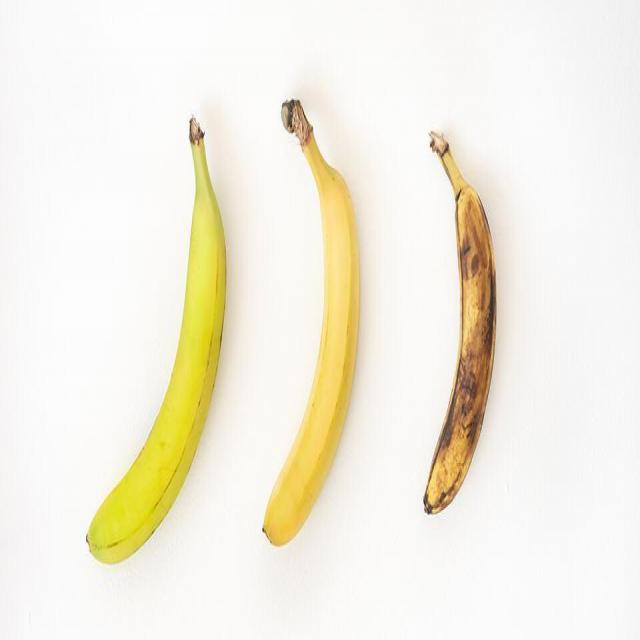banana: (78, 91, 231, 577), (255, 89, 366, 564), (416, 106, 502, 532)
